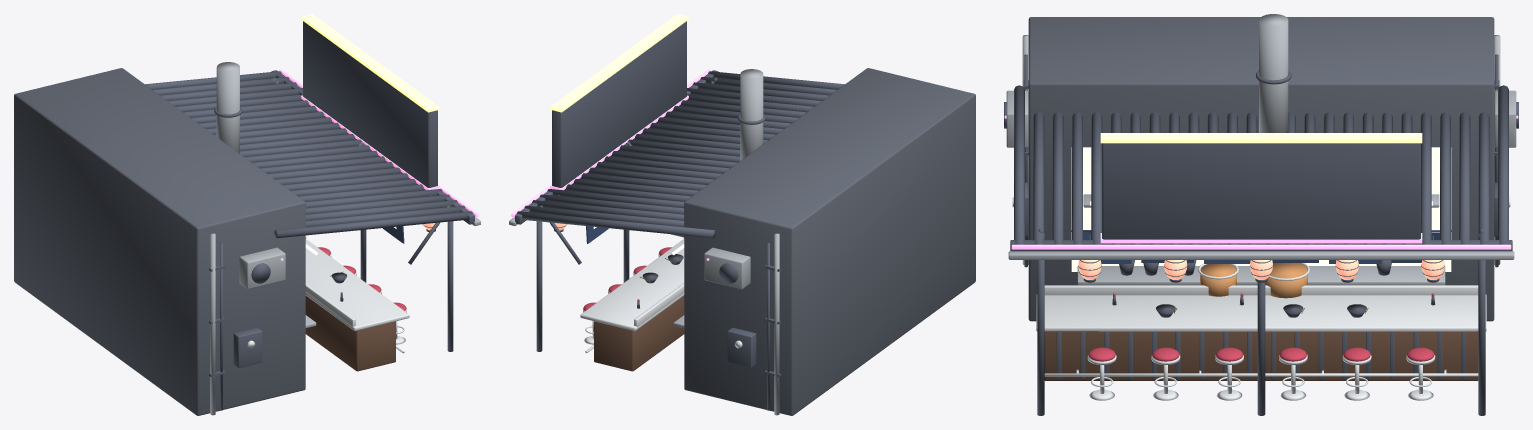
Rendered from white_dragon_noodle_bar.glb.
The picture shows the model from 3 angles, left to right: view 1: azimuth 30°, elevation 25°; view 2: azimuth 150°, elevation 25°; view 3: azimuth 270°, elevation 25°; orthographic projection. The views are drawn at different scales.
Parts seen in each view (by area): view 1: KitchenBack, SignMountFrame, CounterTop, CounterBase, SignTrimTop, ExhaustPipeVert, Corrugation_0, WallAC_-1.0, Corrugation_1, WallPipeA_-1.0, Corrugation_2, BreakerBox_-1.0 (+27 smaller); view 2: KitchenBack, SignMountFrame, CounterTop, CounterBase, ExhaustPipeVert, SignTrimTop, Corrugation_25, WallAC_1.0, Corrugation_24, WallPipeA_1.0, Corrugation_23, BreakerBox_1.0 (+27 smaller); view 3: KitchenBack, SignMountFrame, CounterTop, CounterBase, RainGutter, CounterSplash, PrepShelfLower, SignTrimTop, ExhaustPipeVert, AwningNeonTrim, AwningBeamFront, KitchenTileBack (+19 smaller).
Boxes of the visible parts, box(x1,y1,x2,y2) form: KitchenBack: box(14, 68, 305, 415); SignMountFrame: box(303, 21, 437, 187); CounterTop: box(305, 239, 409, 331); CounterBase: box(305, 296, 395, 371); SignTrimTop: box(301, 14, 439, 112); ExhaustPipeVert: box(216, 62, 239, 153); Corrugation_0: box(274, 211, 473, 238); WallAC_-1.0: box(239, 247, 285, 289); Corrugation_1: box(305, 205, 465, 227); WallPipeA_-1.0: box(210, 233, 215, 415); Corrugation_2: box(305, 200, 457, 220); BreakerBox_-1.0: box(233, 327, 262, 367); KitchenBack: box(684, 68, 975, 415); SignMountFrame: box(552, 21, 686, 187); CounterTop: box(580, 239, 684, 331); CounterBase: box(594, 296, 684, 371); ExhaustPipeVert: box(740, 69, 763, 160); SignTrimTop: box(550, 14, 688, 112); Corrugation_25: box(516, 211, 715, 238); WallAC_1.0: box(704, 247, 750, 289); Corrugation_24: box(524, 205, 684, 227); WallPipeA_1.0: box(774, 233, 779, 415); Corrugation_23: box(532, 200, 684, 220); BreakerBox_1.0: box(727, 327, 756, 367); KitchenBack: box(1028, 17, 1494, 321); SignMountFrame: box(1102, 143, 1420, 239); CounterTop: box(1036, 294, 1486, 331); CounterBase: box(1044, 332, 1478, 380); RainGutter: box(1008, 251, 1514, 259); CounterSplash: box(1044, 285, 1478, 295); PrepShelfLower: box(1077, 266, 1445, 285); SignTrimTop: box(1100, 133, 1422, 143); ExhaustPipeVert: box(1259, 14, 1288, 132); AwningNeonTrim: box(1011, 244, 1511, 249); AwningBeamFront: box(1010, 240, 1512, 251); KitchenTileBack: box(1071, 147, 1451, 271).
Size of the model in its own units: 6.58 by 5.65 by 8.4.
